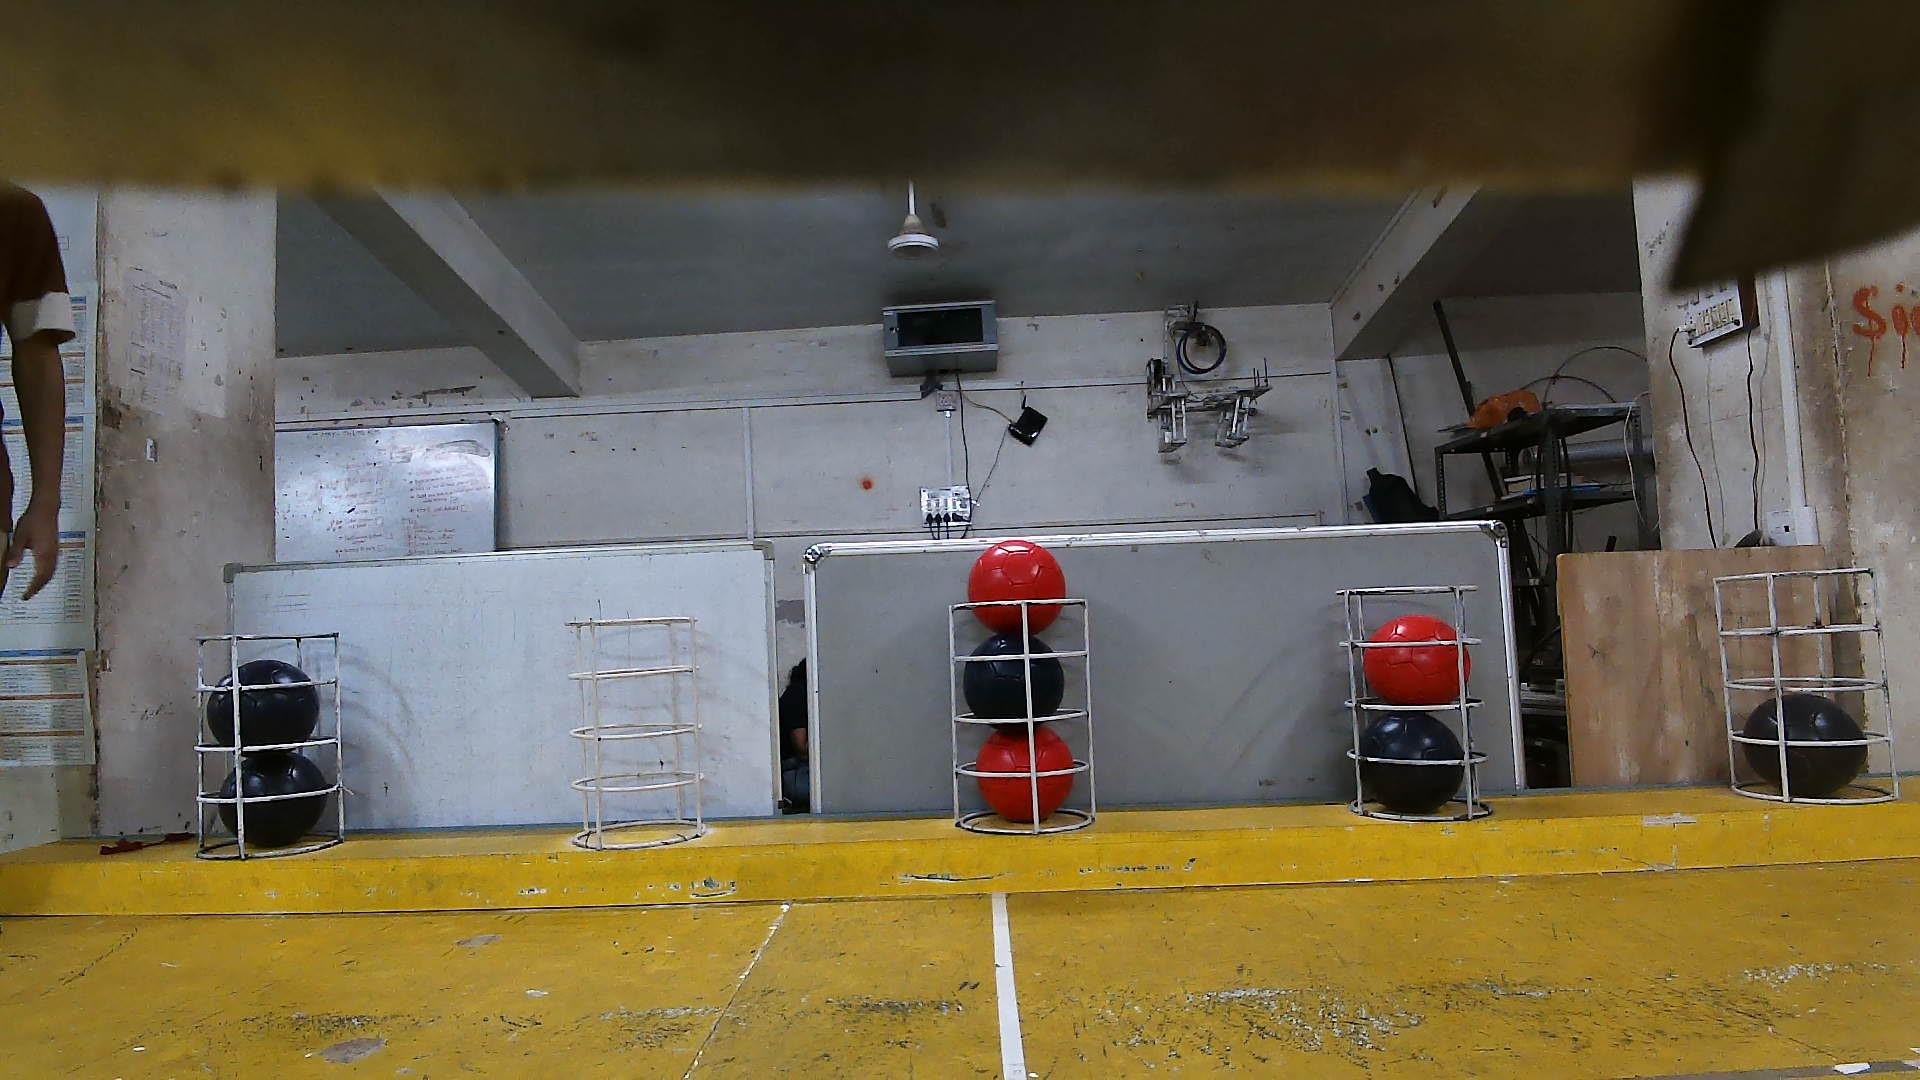dhoka: (1739, 695, 1863, 800), (212, 749, 328, 851), (1364, 712, 1465, 818), (211, 661, 323, 754), (963, 636, 1063, 732)
laale: (1367, 612, 1461, 713), (967, 539, 1068, 633), (978, 728, 1076, 822)
